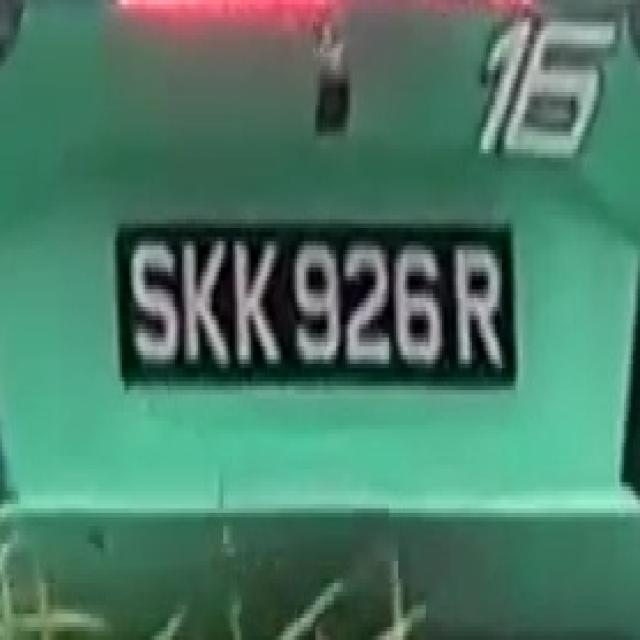2: (343, 215, 398, 386)
6: (394, 224, 449, 368)
9: (288, 224, 340, 372)
K: (228, 228, 285, 386), (179, 228, 228, 386)
R: (451, 219, 507, 386)
S: (129, 219, 177, 373)
